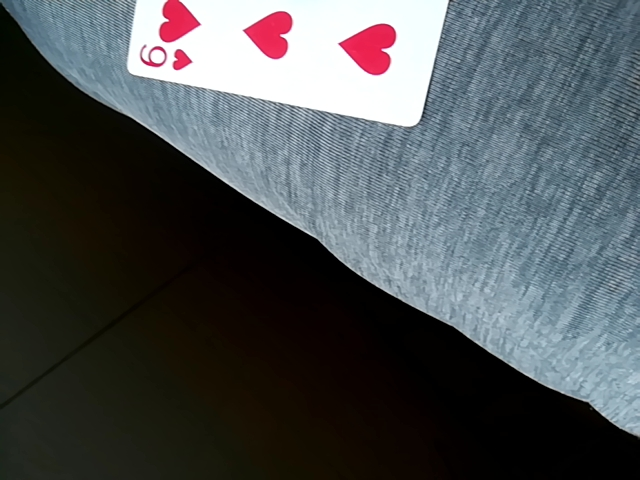hx 6: (126, 0, 457, 130)
